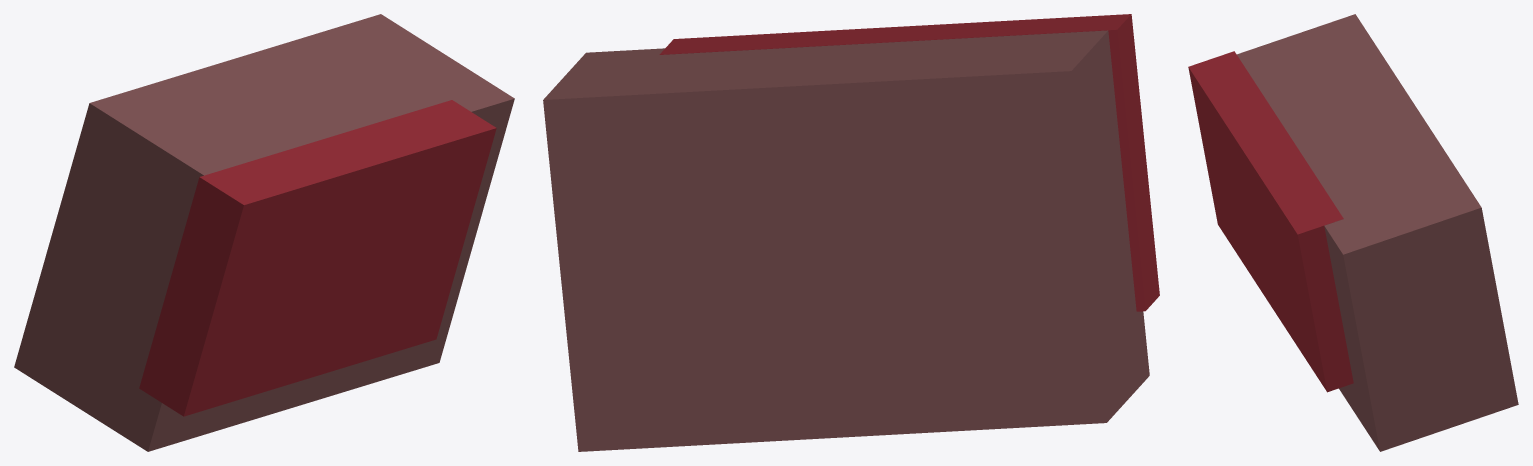
The model's file is inf_gore_chunk_b.fbx.
3 views of the same model, side by side, from view 1: azimuth 30°, elevation 25°; view 2: azimuth 150°, elevation 25°; view 3: azimuth 270°, elevation 25° (orthographic). The views are drawn at different scales.
Parts seen in each view (by area): view 1: inf_gore_chunk_b; view 2: inf_gore_chunk_b; view 3: inf_gore_chunk_b.
Boxes of the visible parts, left/top/right/bottom form: inf_gore_chunk_b: left=14, top=14, right=514, bottom=451; inf_gore_chunk_b: left=543, top=14, right=1159, bottom=451; inf_gore_chunk_b: left=1188, top=14, right=1518, bottom=451.
Bounding box in the file's own units: 35.59 × 26.02 × 26.59.
